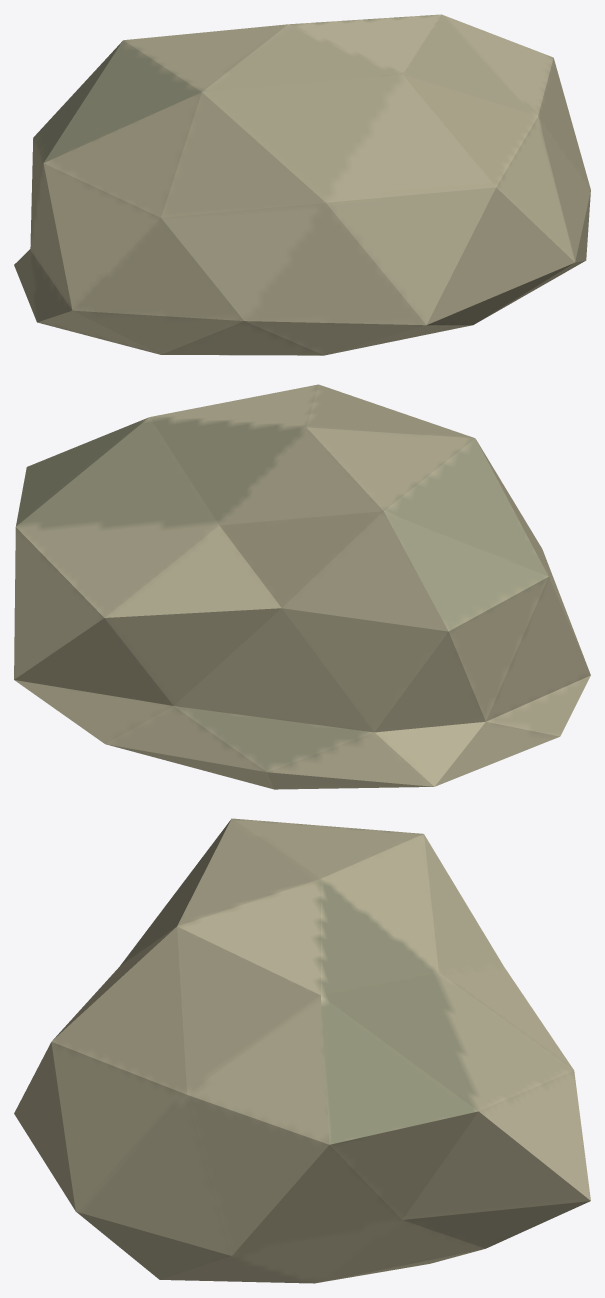
The model's file is SM_Rock_Small.glb.
The picture shows the model from 3 angles, top to bottom: view 1: azimuth 30°, elevation 25°; view 2: azimuth 150°, elevation 25°; view 3: azimuth 270°, elevation 25°; orthographic projection. The views are drawn at different scales.
Visible parts, largest first — view 1: SM_Rock_Small; view 2: SM_Rock_Small; view 3: SM_Rock_Small.
Part boxes in pixels (x1=…): SM_Rock_Small: x1=14, y1=14, x2=590, y2=355; SM_Rock_Small: x1=14, y1=384, x2=590, y2=789; SM_Rock_Small: x1=14, y1=818, x2=590, y2=1283.
Size of the model in its own units: 0.4297 by 0.2272 by 0.3624.
Materials: 1 (1 with a texture image).
